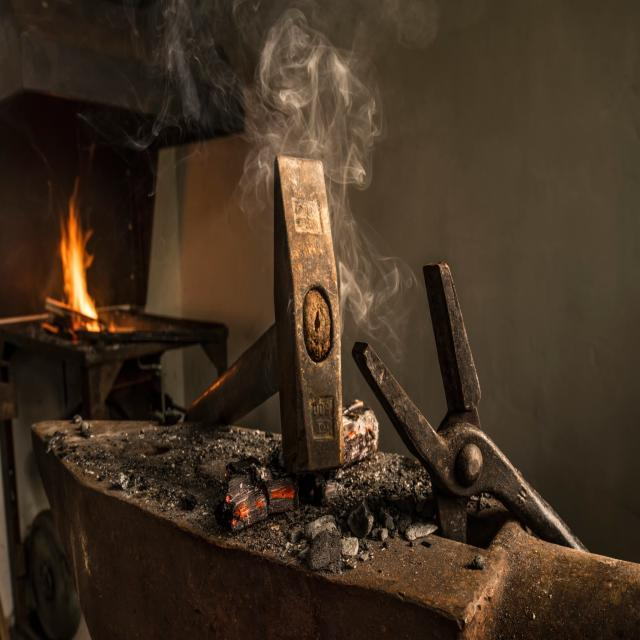hammer: (173, 147, 352, 477)
